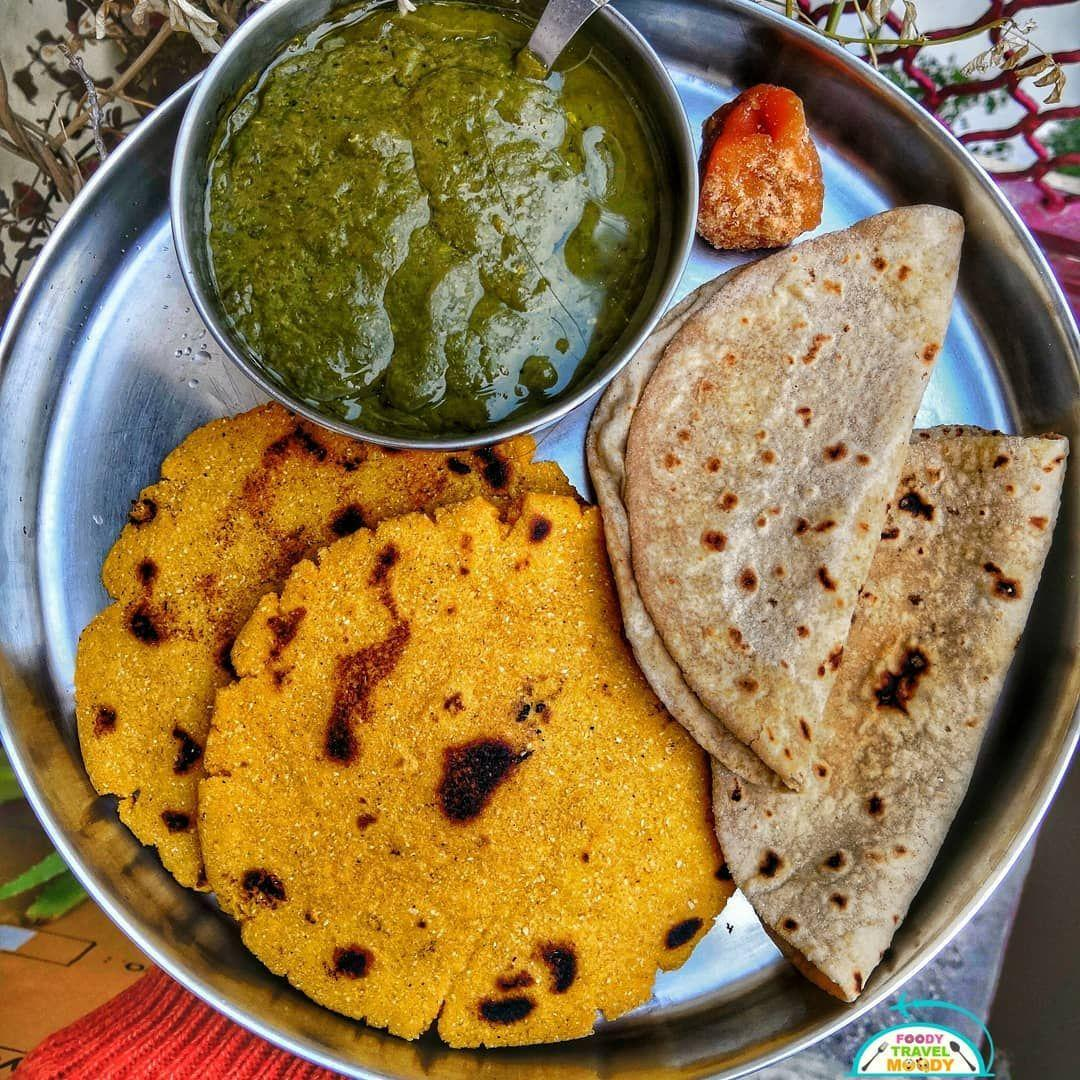saag: (208, 8, 649, 415)
